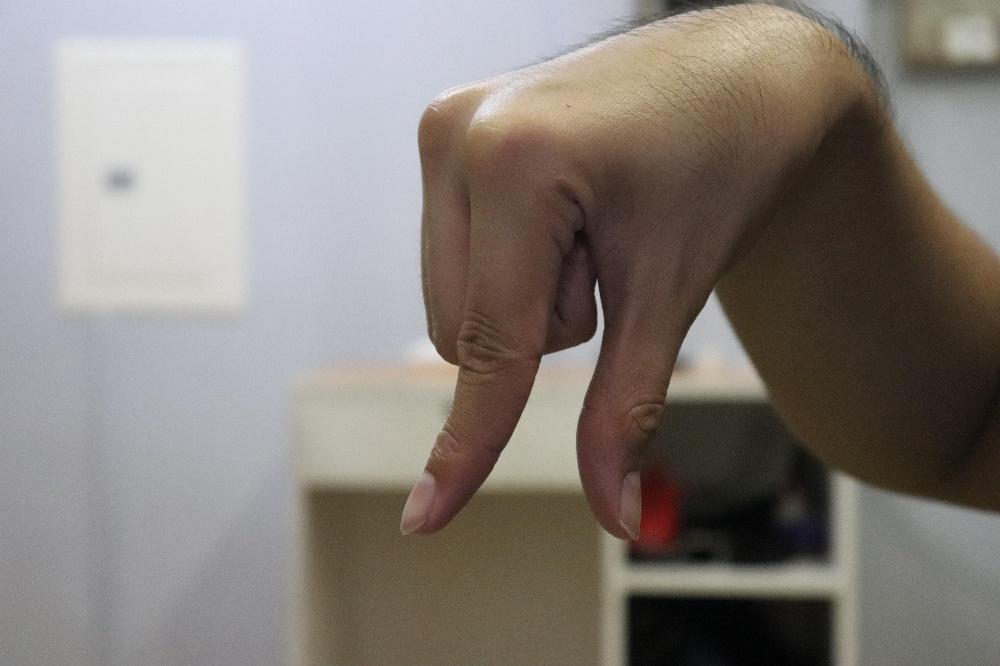q: (399, 0, 856, 542)
